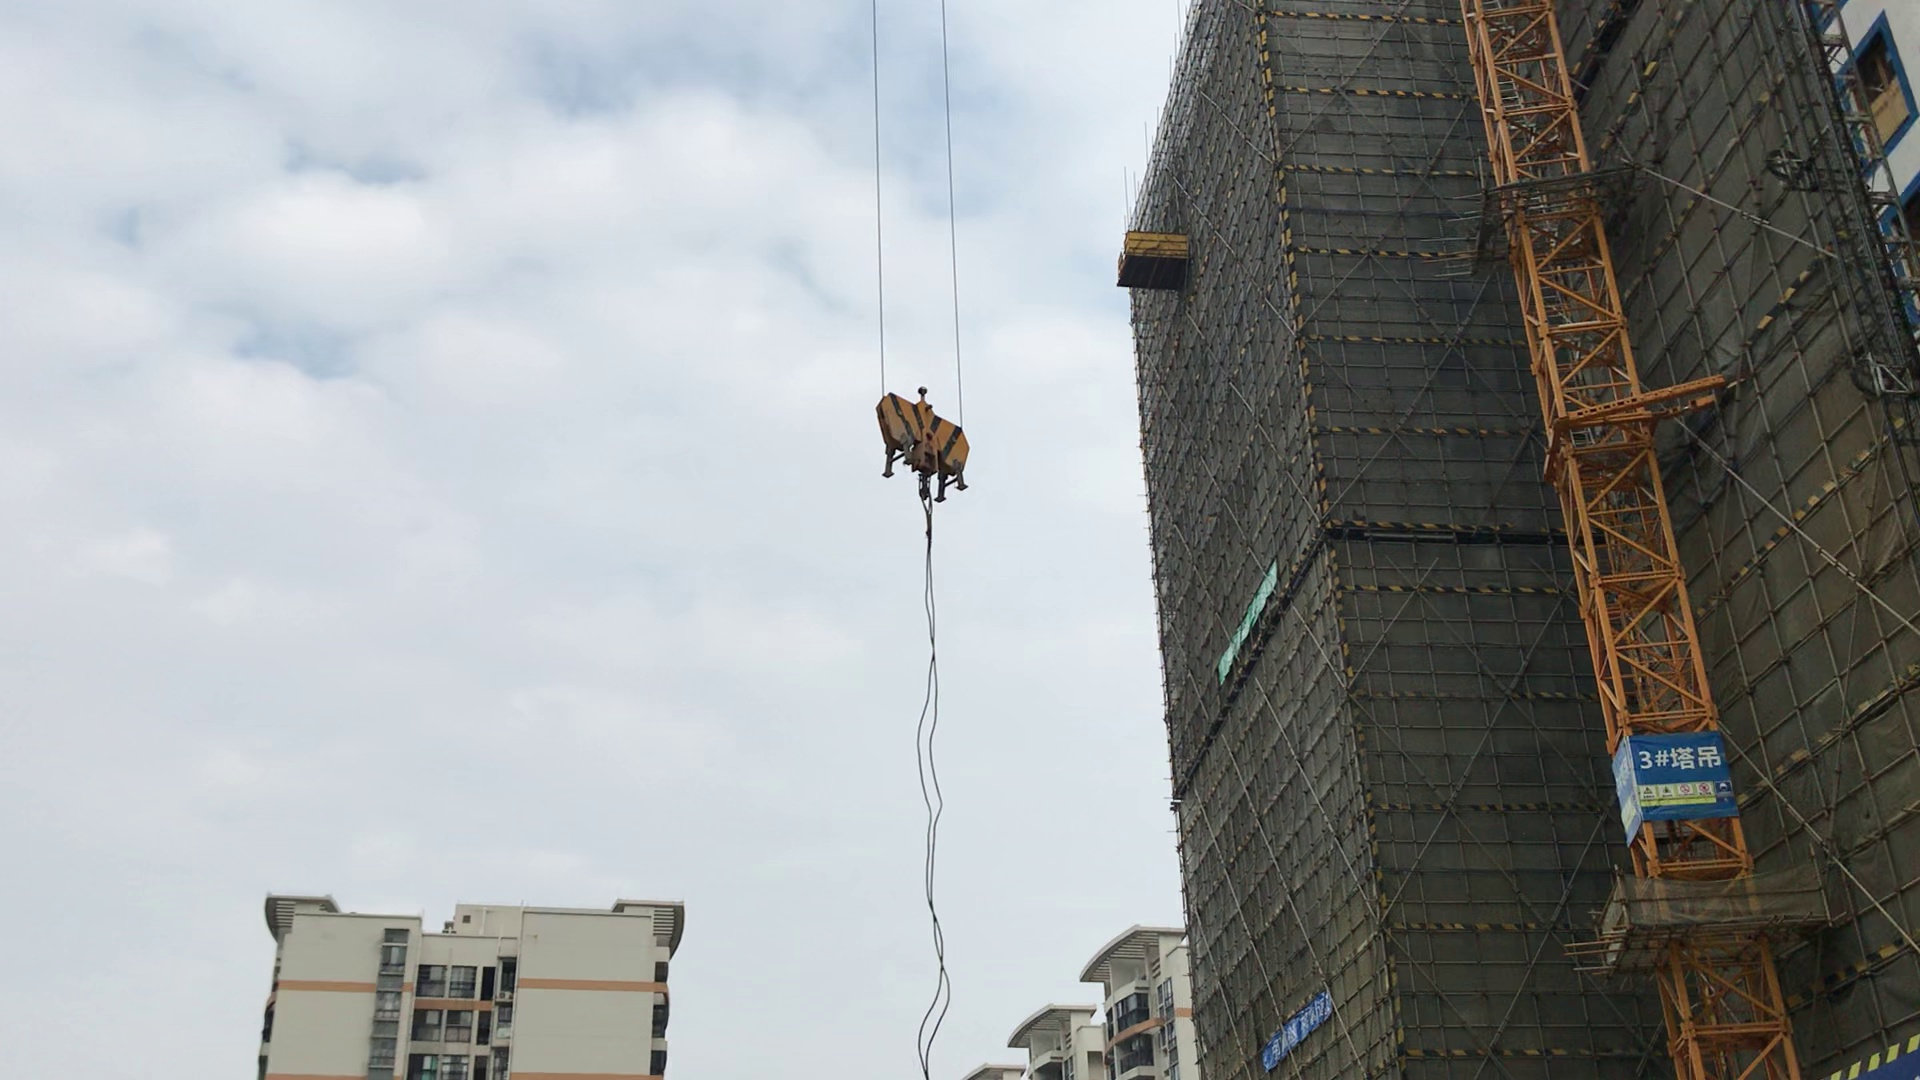hook: (873, 386, 971, 500)
slogan: (1263, 989, 1336, 1068)
